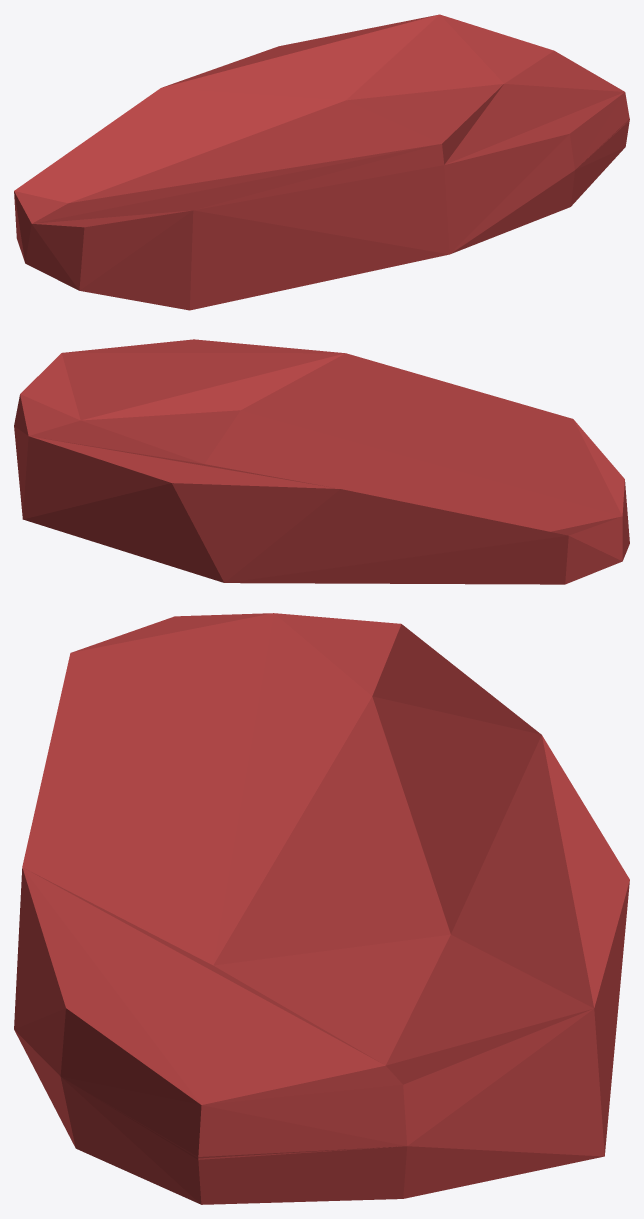
File: SFI_Meat_Cooked_004.fbx
The picture shows the model from 3 angles, top to bottom: view 1: azimuth 30°, elevation 25°; view 2: azimuth 150°, elevation 25°; view 3: azimuth 270°, elevation 25°; orthographic projection. The views are drawn at different scales.
Visible parts, largest first — view 1: SFI_Meat_Cooked_004; view 2: SFI_Meat_Cooked_004; view 3: SFI_Meat_Cooked_004.
Boxes of the visible parts, left/top/right/bottom form: SFI_Meat_Cooked_004: left=14, top=14, right=629, bottom=310; SFI_Meat_Cooked_004: left=14, top=339, right=629, bottom=584; SFI_Meat_Cooked_004: left=14, top=613, right=629, bottom=1204.
Bounding box in the file's own units: 64.54 × 10.98 × 32.92.
